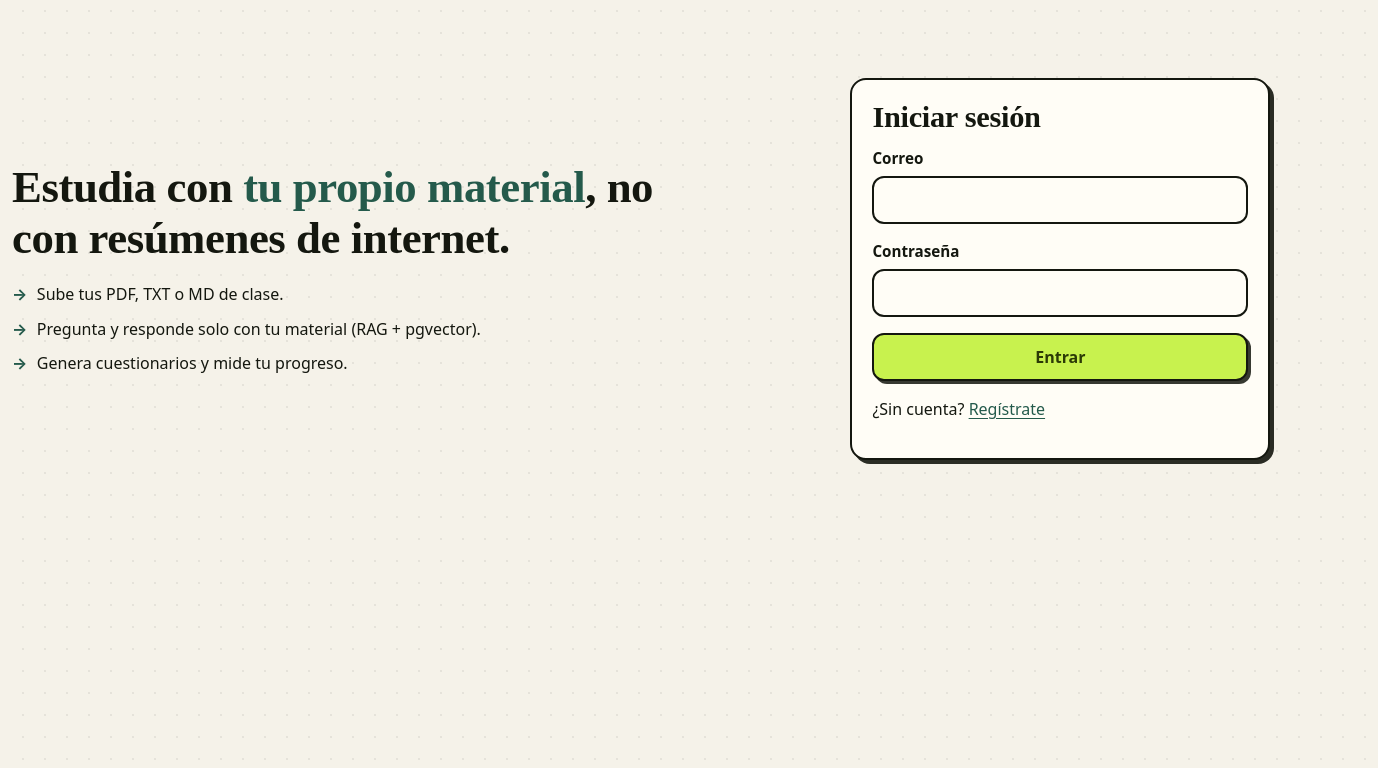
Scenario: Login › muestra error amable con credenciales inválidas
Type "alan@ejemplo.mx" into the field labelled "Correo". click: [1060, 200]
box: [872,176,1248,224]
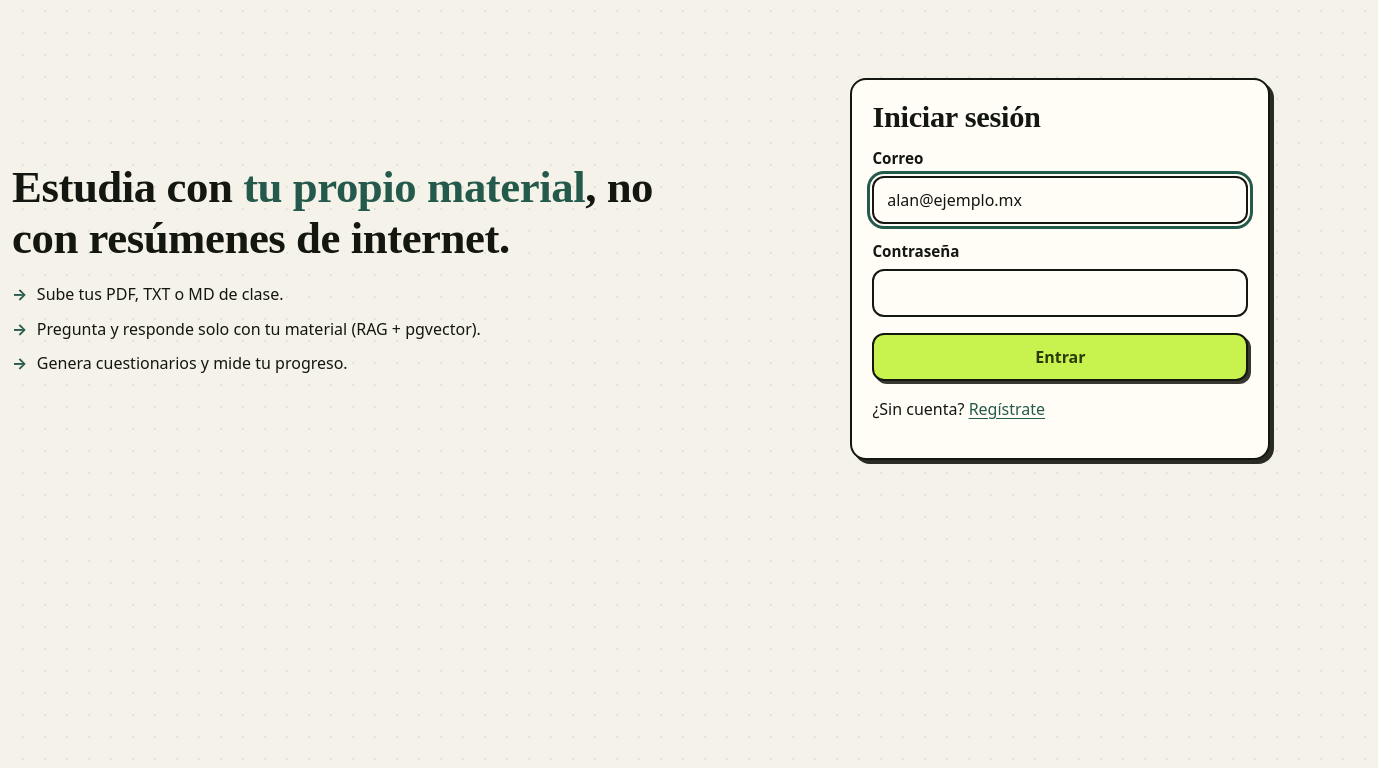
Type "malaclave" into the password field labelled "Contraseña". click: [1060, 293]
box: [872,269,1248,317]
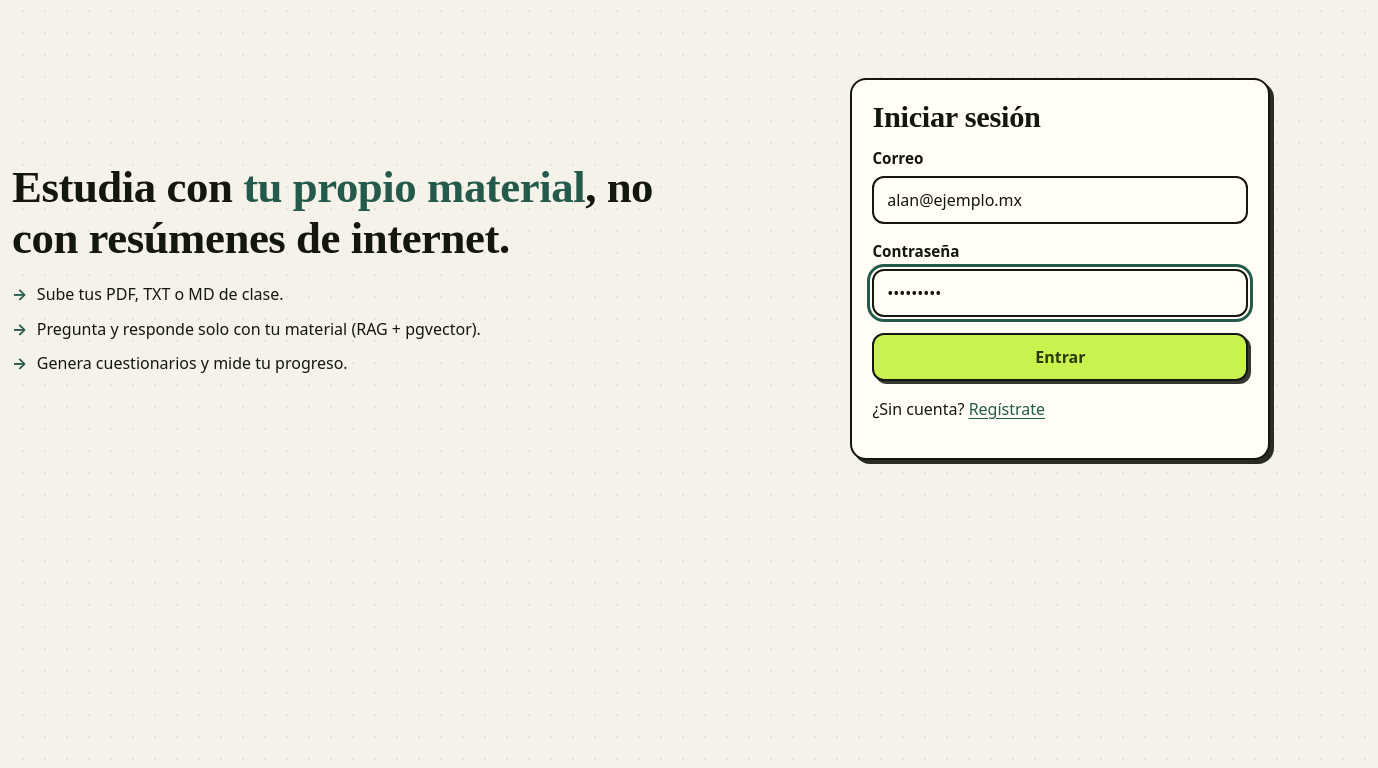
Click the button "Entrar". click: [1060, 357]
box: [872,333,1248,381]
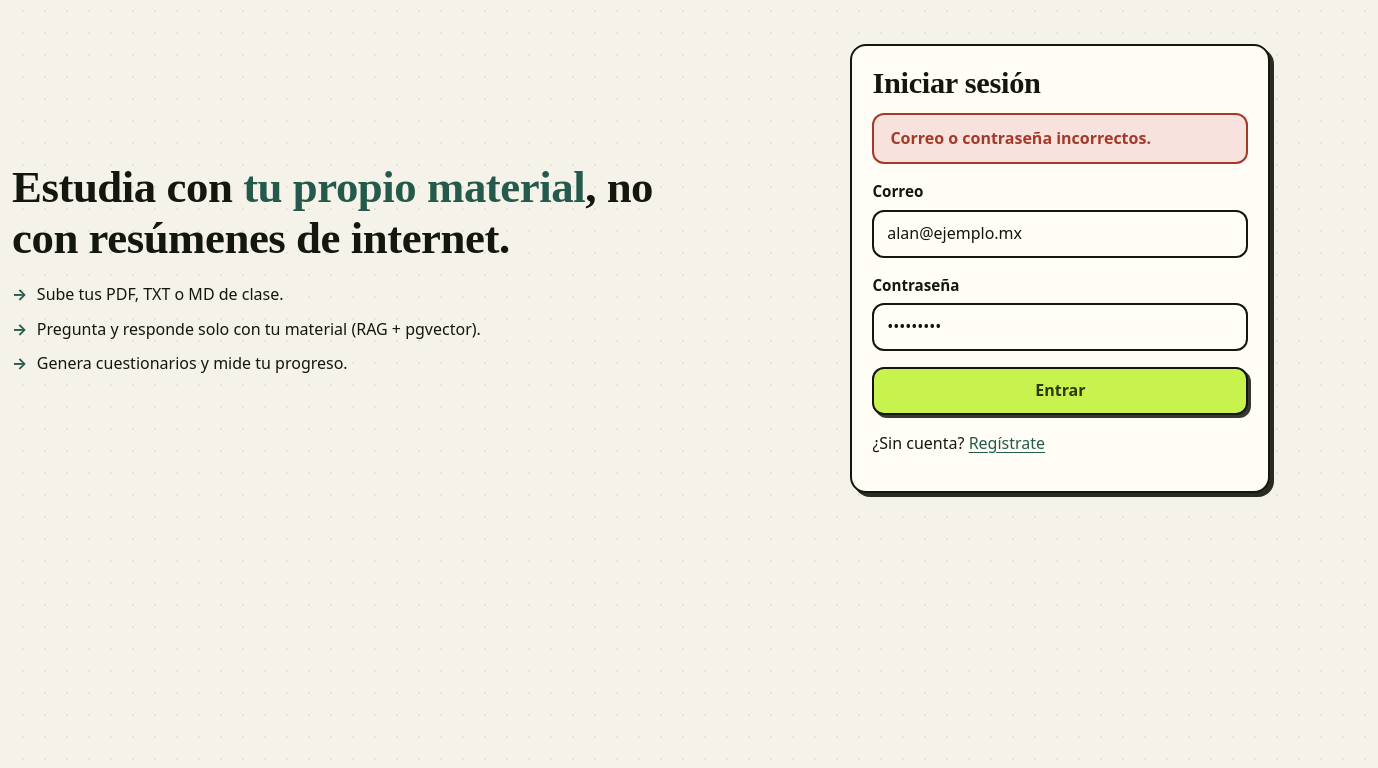
expect the message reads "Correo o contraseña incorrectos.": met, box [890,127,1151,149]
